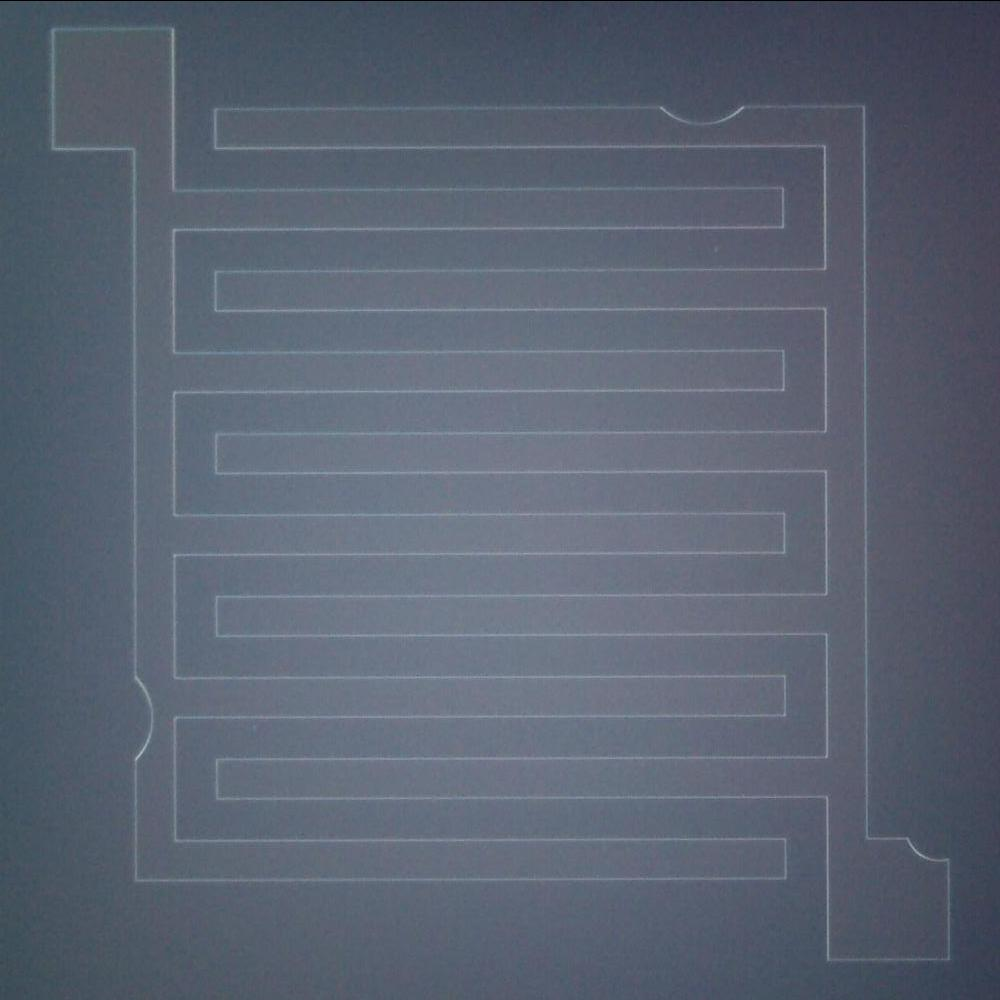curve circuit: (644, 84, 760, 135), (122, 654, 161, 774), (898, 826, 958, 876)
